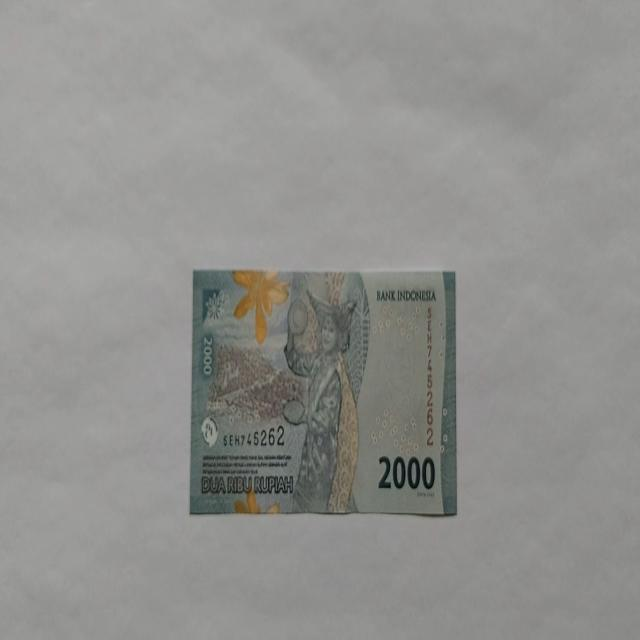dua ribu rupiah: (189, 266, 457, 516), (282, 285, 361, 513)
